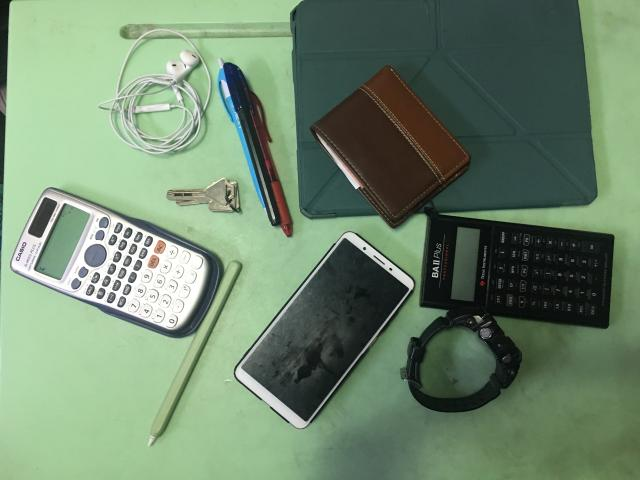Keys: (166, 178, 240, 211)
Pen: (217, 61, 292, 235)
Wallet: (310, 66, 471, 229)
Watch: (401, 306, 521, 412)
wire: (99, 27, 217, 158)
